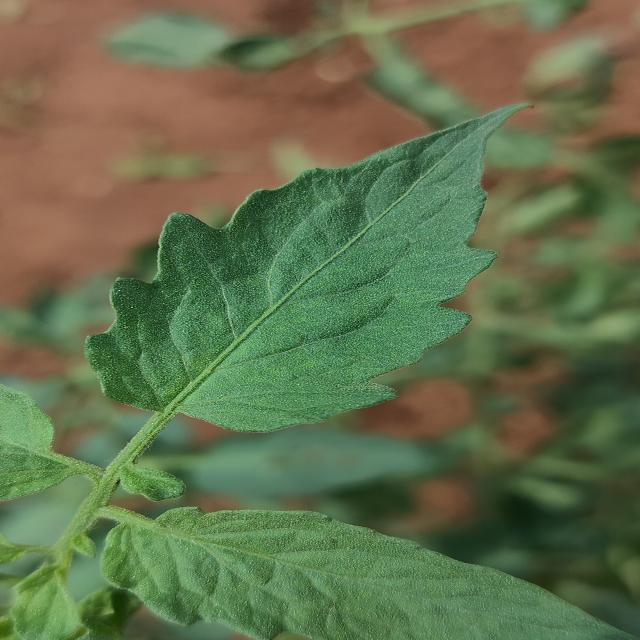tomato_healthy: (85, 105, 524, 432), (100, 507, 638, 640)
